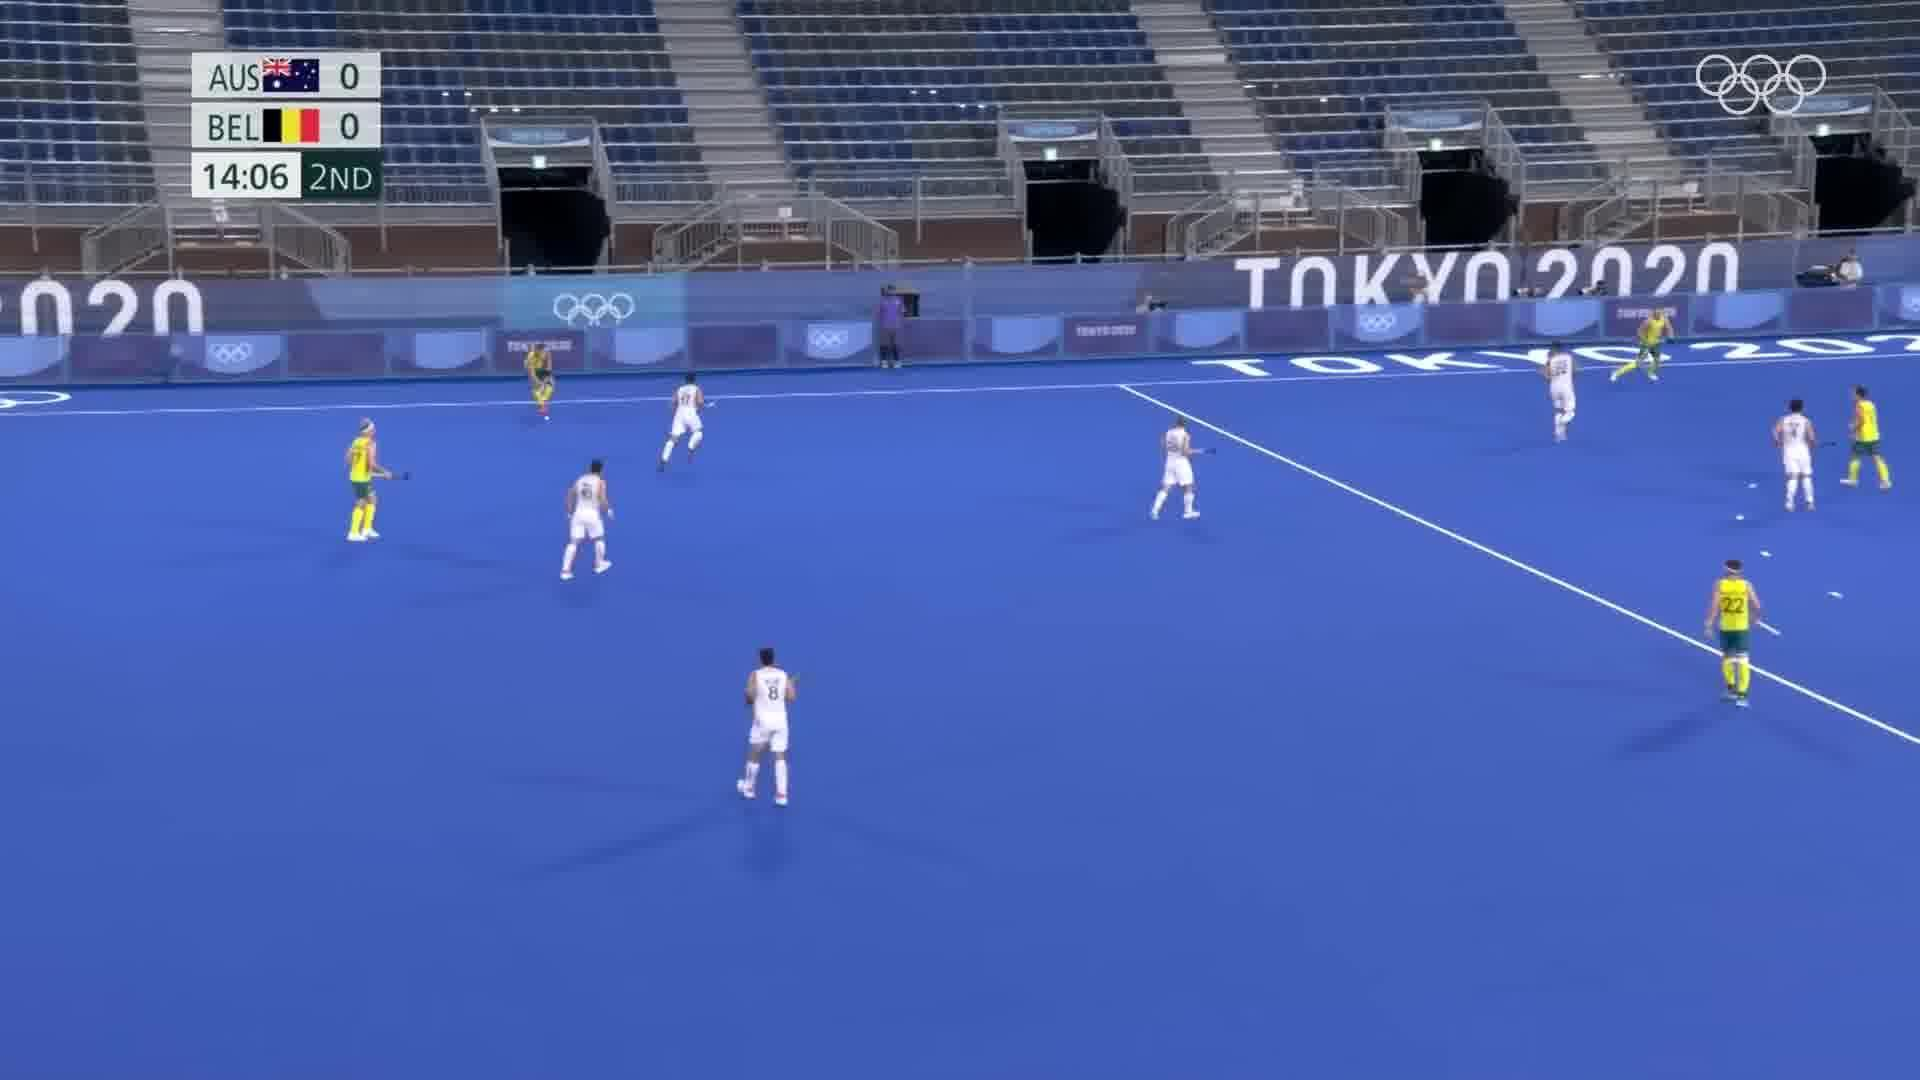ball: (538, 410, 554, 423)
